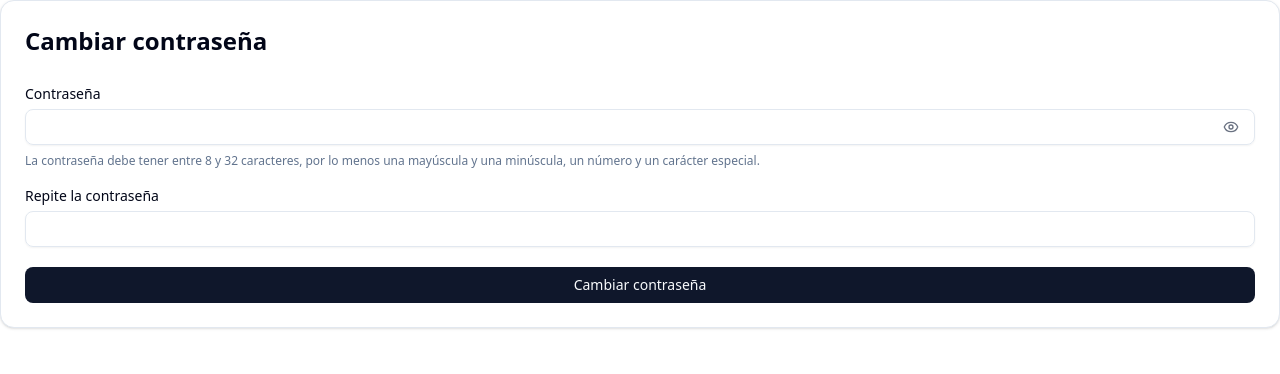
it: PasswordResetForm › muestra error si las contraseñas no coinciden
The image size is (1280, 374).
Type "Password1!" into the password field labelled "Contraseña". click: (640, 127)
box: [25,109,1255,145]
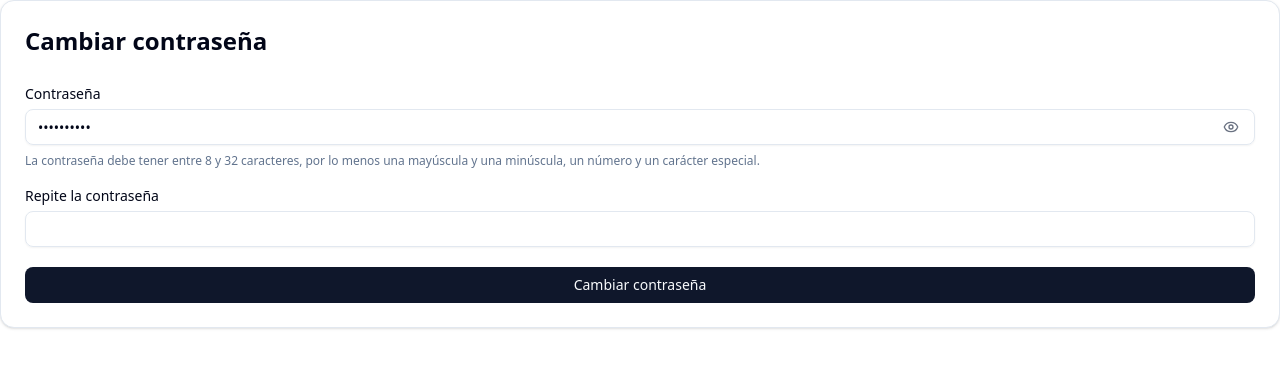
Type "Password2!" into the password field labelled "Repite la contraseña". click: (640, 229)
box: [25,211,1255,247]
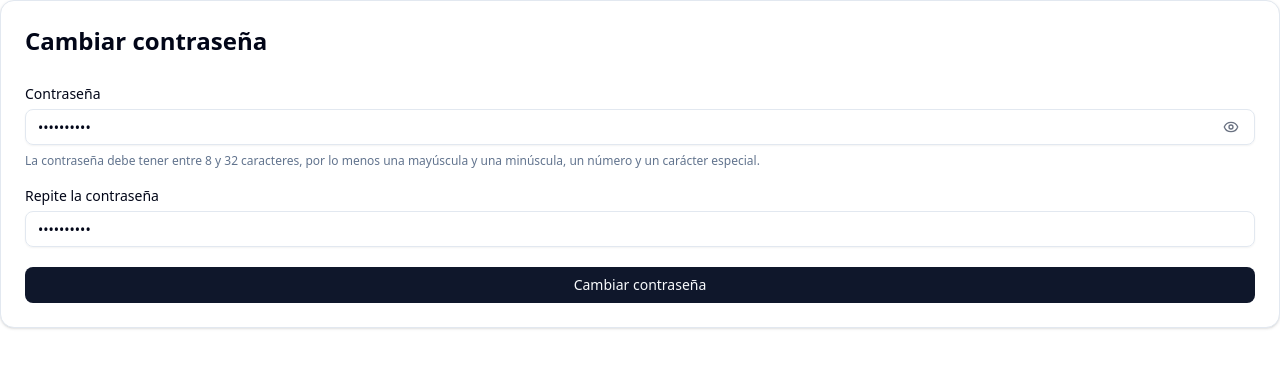
Click the button "Cambiar contraseña". click: click(640, 285)
box: [25,267,1255,303]
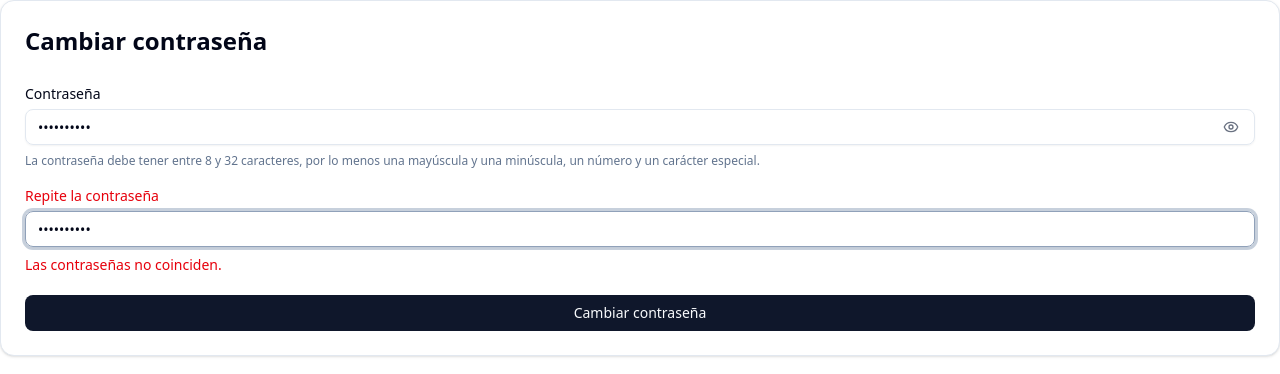
Expected: the text "Las contraseñas no coinciden." is shown, [25,255,222,274]
